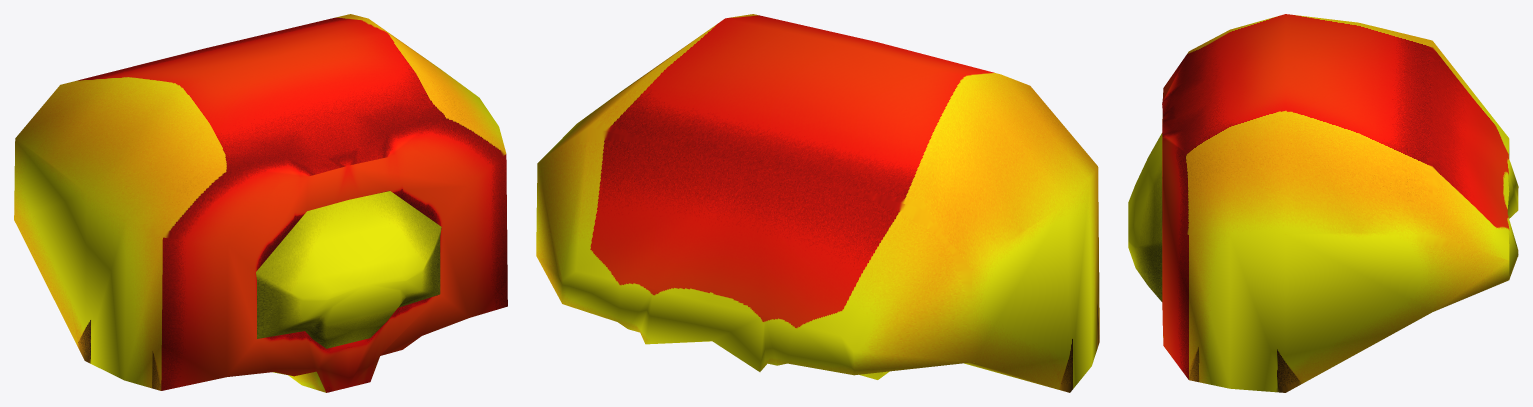
File: robot_EnemyHead.obj
3 renders of one model, left to right at view 1: azimuth 30°, elevation 25°; view 2: azimuth 150°, elevation 25°; view 3: azimuth 270°, elevation 25°, orthographic. The views are drawn at different scales.
Visible parts, largest first — view 1: Plane; view 2: Plane; view 3: Plane.
Part boxes in pixels (bbox=[...]): Plane: bbox=[14, 14, 507, 392]; Plane: bbox=[536, 14, 1099, 392]; Plane: bbox=[1128, 14, 1518, 392].
Size of the model in its own units: 2.95 by 2.05 by 2.66.
